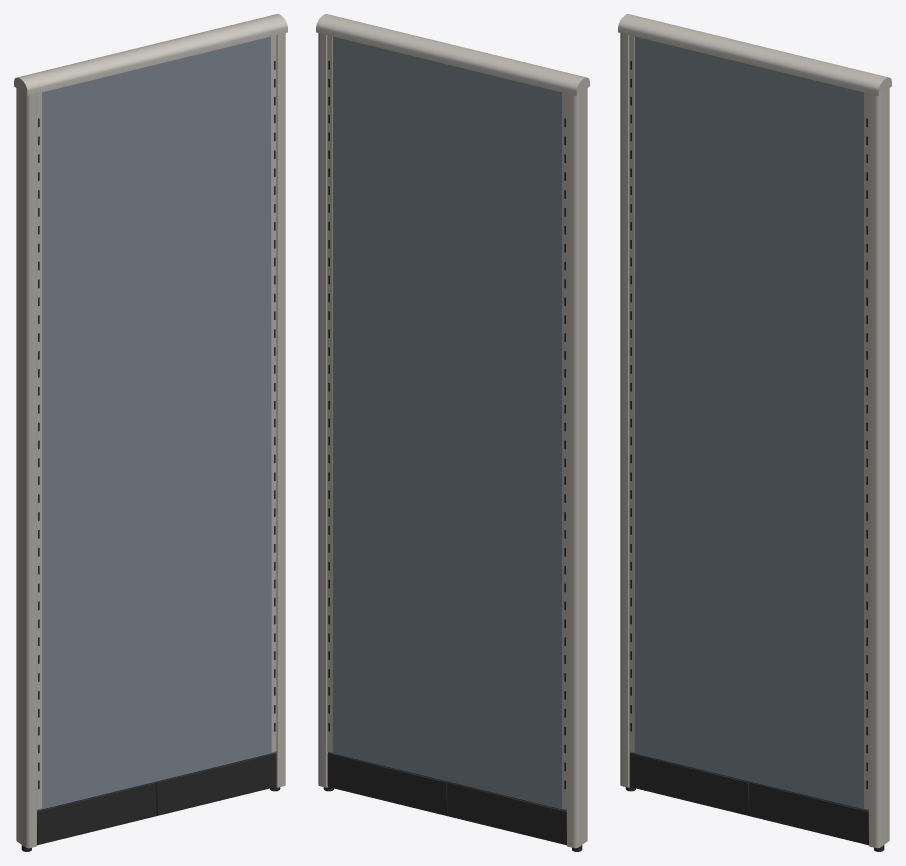
The model's file is Kit_CubiclePanelShort_2160.fbx.
3 views of the same model, side by side, from view 1: azimuth 30°, elevation 25°; view 2: azimuth 150°, elevation 25°; view 3: azimuth 330°, elevation 25° (orthographic).
Parts seen in each view (by area): view 1: Kit_CubiclePanelShort_2160_LOD0; view 2: Kit_CubiclePanelShort_2160_LOD0; view 3: Kit_CubiclePanelShort_2160_LOD0.
Part boxes in pixels (x1=…): Kit_CubiclePanelShort_2160_LOD0: x1=14, y1=14, x2=287, y2=851; Kit_CubiclePanelShort_2160_LOD0: x1=316, y1=14, x2=589, y2=851; Kit_CubiclePanelShort_2160_LOD0: x1=618, y1=14, x2=891, y2=851.
Size of what is drawn, in the model's own units: 0.762 by 2.16 by 0.067.
